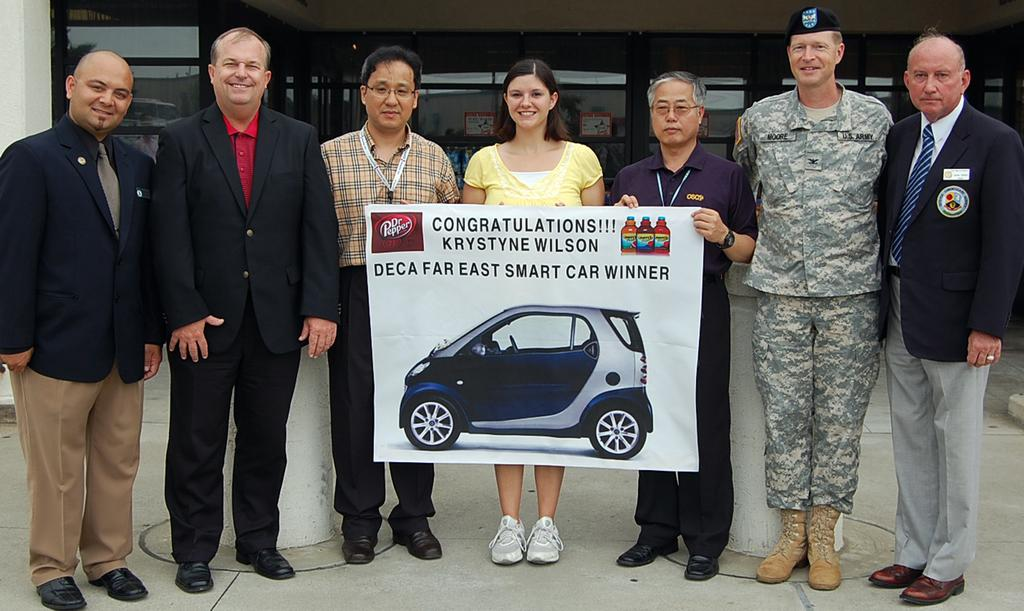Car: (381, 306, 660, 482)
